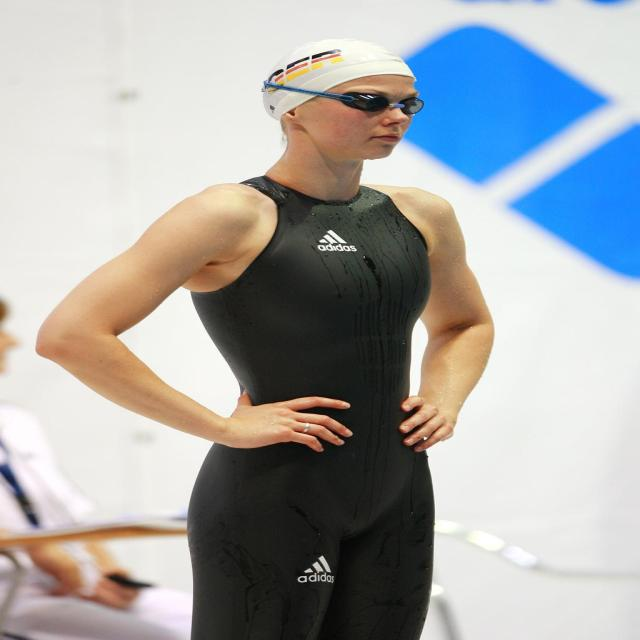Face: (287, 63, 425, 172)
